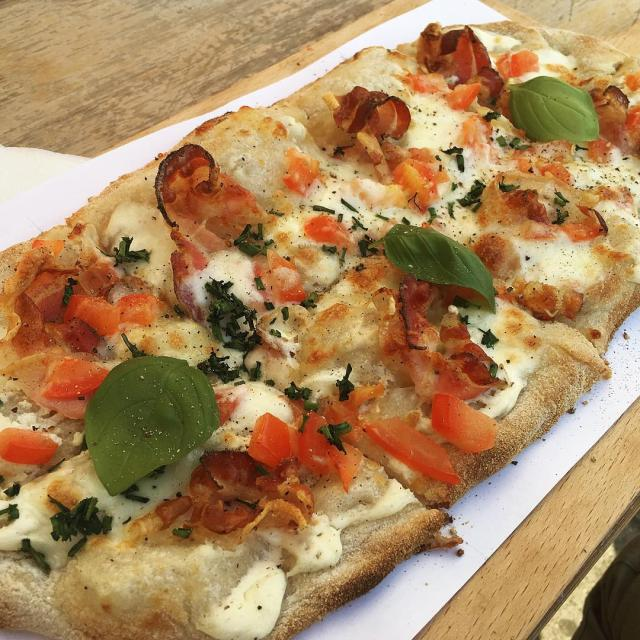basil: (82, 353, 221, 498), (366, 222, 503, 314), (504, 77, 601, 146)
pizza: (0, 18, 640, 640)
tomatoes: (363, 420, 458, 482), (433, 392, 499, 452), (327, 386, 383, 441), (390, 157, 441, 215), (44, 354, 112, 396), (267, 246, 310, 306), (0, 425, 58, 467), (249, 413, 292, 468), (65, 294, 120, 336), (300, 412, 330, 474), (560, 205, 604, 245), (282, 148, 319, 194), (306, 213, 350, 247), (120, 294, 166, 323), (405, 70, 451, 96), (335, 441, 357, 492), (447, 84, 482, 112), (509, 51, 541, 77), (463, 116, 489, 147), (540, 164, 571, 184), (590, 140, 610, 164)
